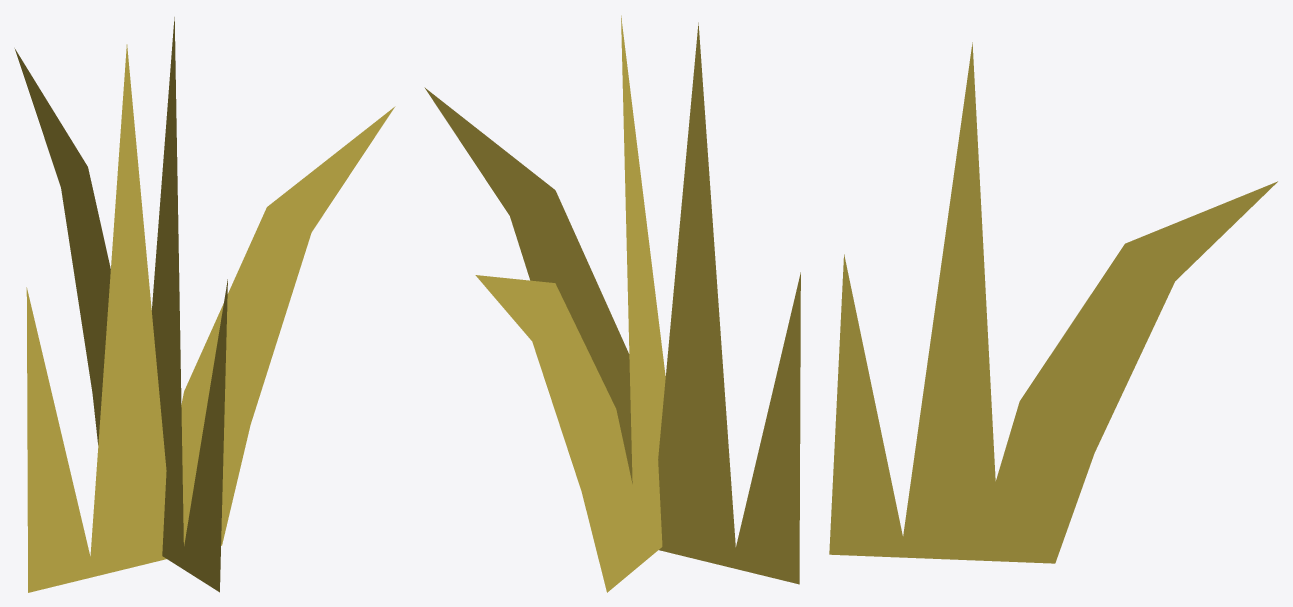
File: gran.fbx
3 renders of one model, left to right at view 1: azimuth 30°, elevation 25°; view 2: azimuth 150°, elevation 25°; view 3: azimuth 270°, elevation 25°, orthographic. The views are drawn at different scales.
Parts seen in each view (by area): view 1: gran; view 2: gran; view 3: gran.
Part boxes in pixels (x1,y1,x2,y2): gran: (14,17,395,592); gran: (424,15,800,592); gran: (829,42,1277,563).
Size of the model in its own units: 49.63 by 68.15 by 51.84.
